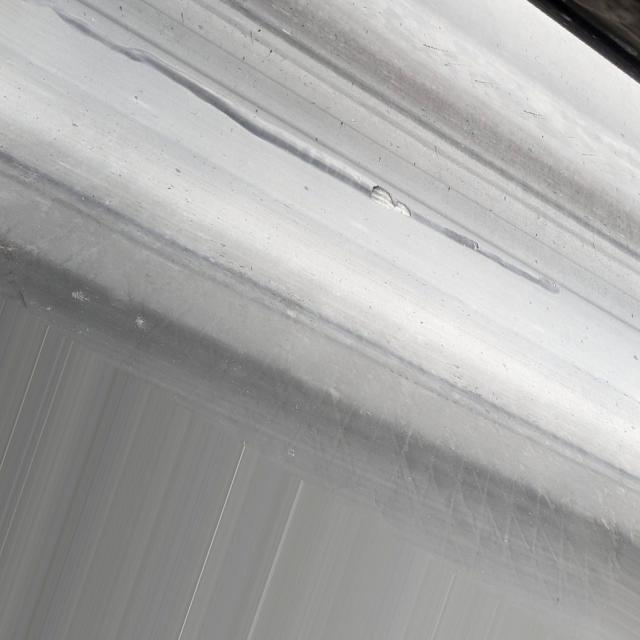Tear: (365, 175, 419, 223)
impact damage: (67, 18, 563, 302)
